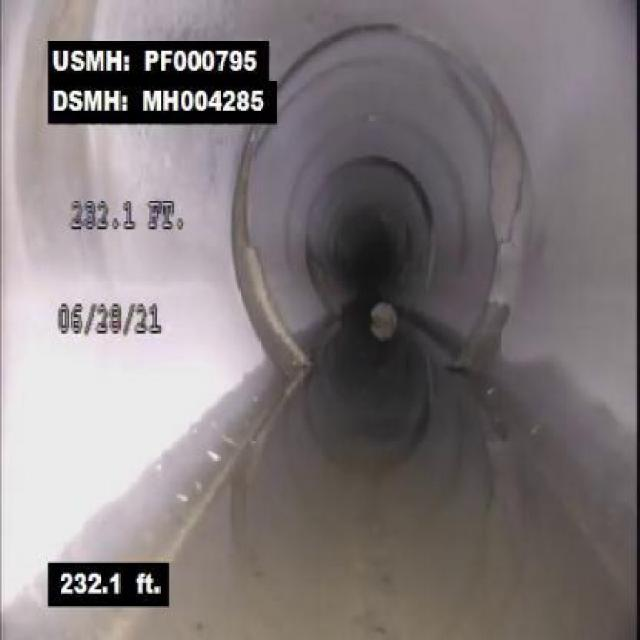Joint offset: (464, 74, 564, 428), (212, 134, 332, 401)
